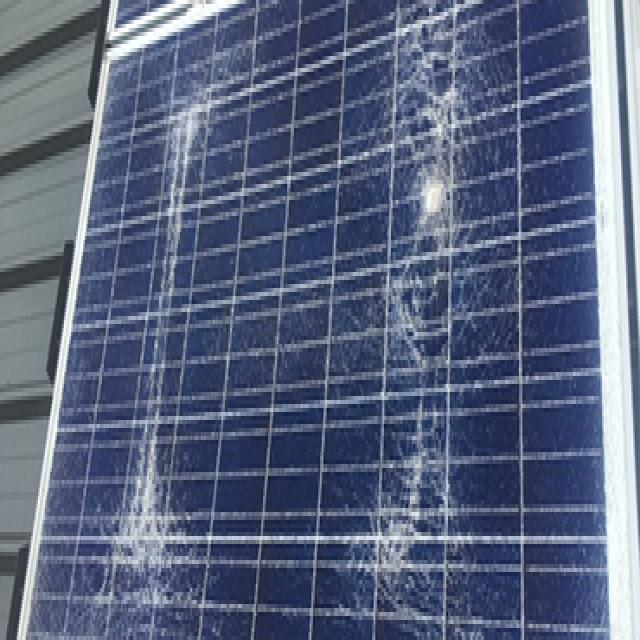physical damage: (105, 6, 490, 632)
